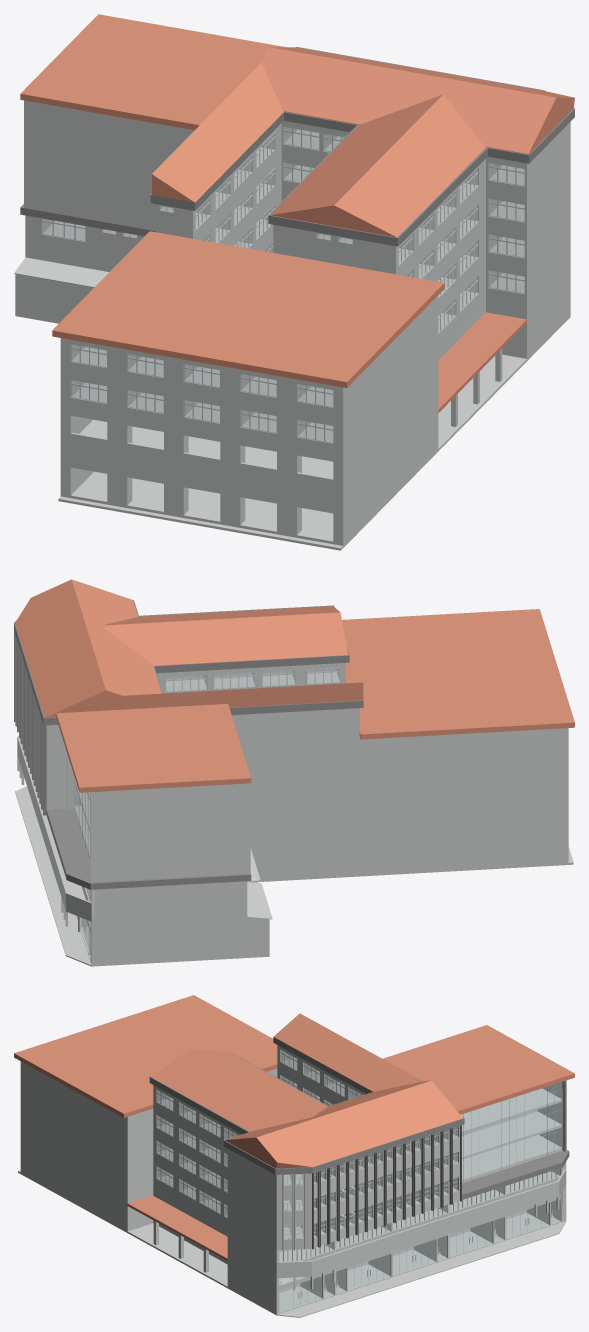
3 renders of one model, top to bottom at view 1: azimuth 30°, elevation 25°; view 2: azimuth 150°, elevation 25°; view 3: azimuth 270°, elevation 25°, orthographic. The views are drawn at different scales.
Visible parts, largest first — view 1: Object.033, Object.031, Object.037, Object.331, Object.329, Object.455, Object.032, Object.035, Object.034, Object.454, Object.330, Object.453 (+13 smaller); view 2: Object.033, Object.037, Object.329, Object.331, Object.031, Object.086, Object.455, Object.032, Object.035, Object.034, Object.337, Object.056 (+13 smaller); view 3: Object.033, Object.329, Object.036, Object.037, Object.455, Object.452, Object.331, Object.454, Object.052, Object.453, Object.271, Object.031 (+13 smaller).
Part boxes in pixels (bbox=[...]): Object.033: bbox=[52, 231, 444, 387]; Object.031: bbox=[60, 396, 438, 545]; Object.037: bbox=[20, 14, 285, 130]; Object.331: bbox=[270, 94, 485, 237]; Object.329: bbox=[261, 47, 574, 154]; Object.455: bbox=[155, 121, 570, 275]; Object.032: bbox=[60, 360, 438, 491]; Object.035: bbox=[60, 324, 438, 456]; Object.034: bbox=[60, 295, 438, 420]; Object.454: bbox=[198, 153, 570, 280]; Object.330: bbox=[152, 62, 283, 202]; Object.453: bbox=[228, 189, 570, 309]; Object.033: bbox=[342, 609, 574, 739]; Object.037: bbox=[56, 704, 251, 792]; Object.329: bbox=[15, 579, 161, 717]; Object.331: bbox=[101, 606, 348, 665]; Object.031: bbox=[359, 817, 568, 874]; Object.086: bbox=[46, 845, 247, 964]; Object.455: bbox=[46, 663, 359, 754]; Object.032: bbox=[359, 786, 568, 828]; Object.035: bbox=[359, 756, 568, 798]; Object.034: bbox=[359, 728, 568, 767]; Object.337: bbox=[49, 840, 247, 918]; Object.056: bbox=[67, 778, 250, 882]; Object.033: bbox=[14, 995, 277, 1117]; Object.329: bbox=[225, 1080, 462, 1168]; Object.036: bbox=[18, 1170, 566, 1317]; Object.037: bbox=[382, 1025, 574, 1114]; Object.455: bbox=[153, 1045, 459, 1198]; Object.452: bbox=[153, 1159, 475, 1275]; Object.331: bbox=[151, 1049, 327, 1131]; Object.454: bbox=[153, 1068, 459, 1224]; Object.052: bbox=[461, 1082, 561, 1182]; Object.453: bbox=[153, 1134, 459, 1249]; Object.271: bbox=[153, 1185, 460, 1313]; Object.031: bbox=[20, 1134, 153, 1231].
Bounding box in the file's own units: 1.33 × 0.515 × 1.56.
